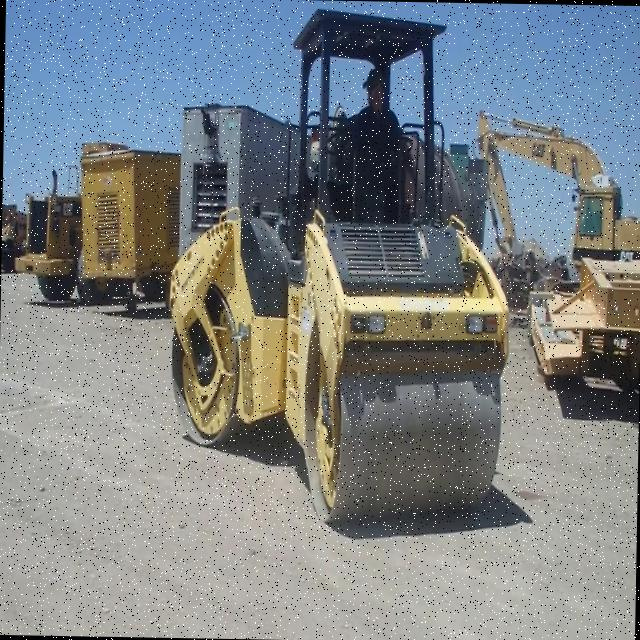Excavator: (475, 101, 640, 291)
Roller: (172, 4, 507, 534)
